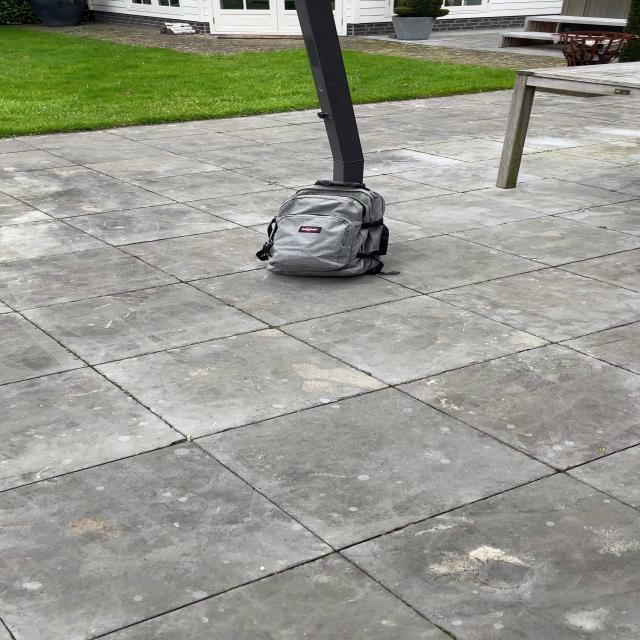backpack: (254, 176, 395, 283)
